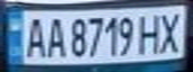1: (103, 12, 121, 56)
7: (84, 14, 106, 57)
8: (66, 14, 87, 58)
9: (115, 12, 139, 56)
A: (21, 14, 48, 58), (42, 14, 69, 58)
H: (136, 11, 163, 55)
X: (157, 8, 187, 54)
